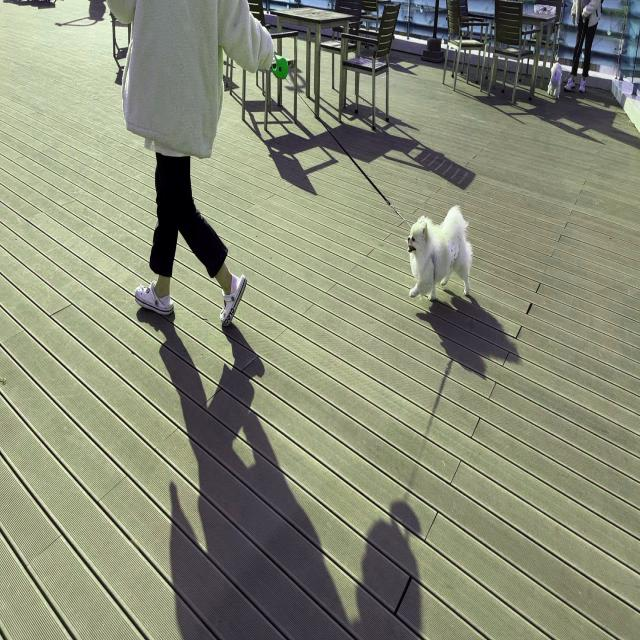Leashed_Dog: (179, 22, 473, 302)
